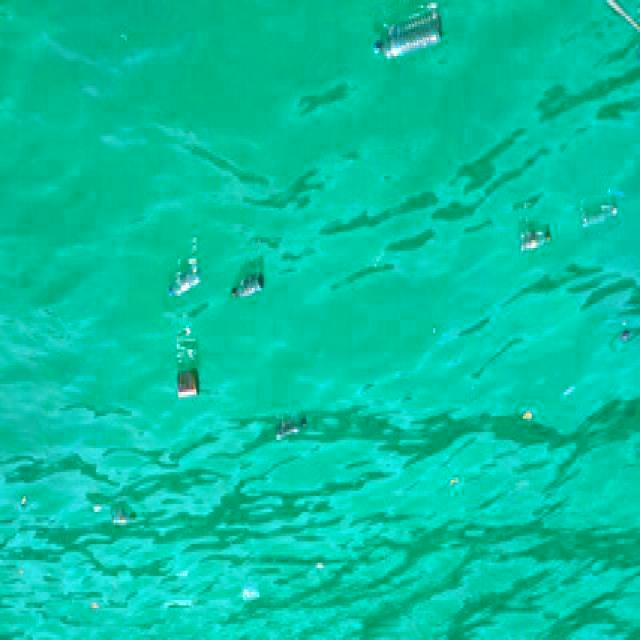Metal: (173, 367, 203, 406)
Plastic: (368, 6, 448, 66), (573, 193, 622, 235), (162, 261, 208, 300), (268, 411, 314, 447), (227, 271, 266, 312), (516, 221, 556, 256), (100, 508, 140, 535), (153, 591, 199, 614), (79, 595, 107, 616), (238, 584, 264, 602)
